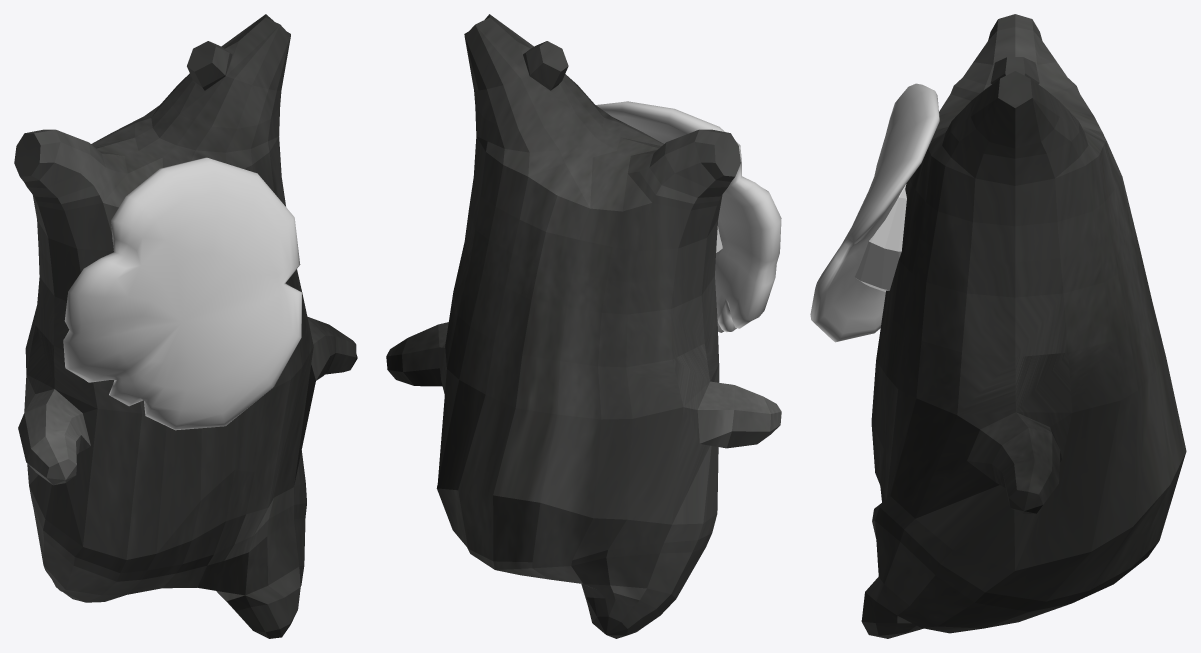
The model's file is frame_0002.obj.
3 views of the same model, side by side, from view 1: azimuth 30°, elevation 25°; view 2: azimuth 150°, elevation 25°; view 3: azimuth 270°, elevation 25° (orthographic). The views are drawn at different scales.
Parts seen in each view (by area): view 1: korok, leaf; view 2: korok, leaf; view 3: korok, leaf, nose.
Part boxes in pixels (box(x1,y1,x2,y2)): korok: box(14, 14, 357, 638); leaf: box(63, 157, 301, 430); korok: box(386, 14, 781, 638); leaf: box(596, 101, 781, 332); korok: box(861, 14, 1186, 638); leaf: box(810, 83, 939, 342); nose: box(855, 184, 906, 292).
Bounding box in the file's own units: 1.59 × 2.39 × 1.37.
